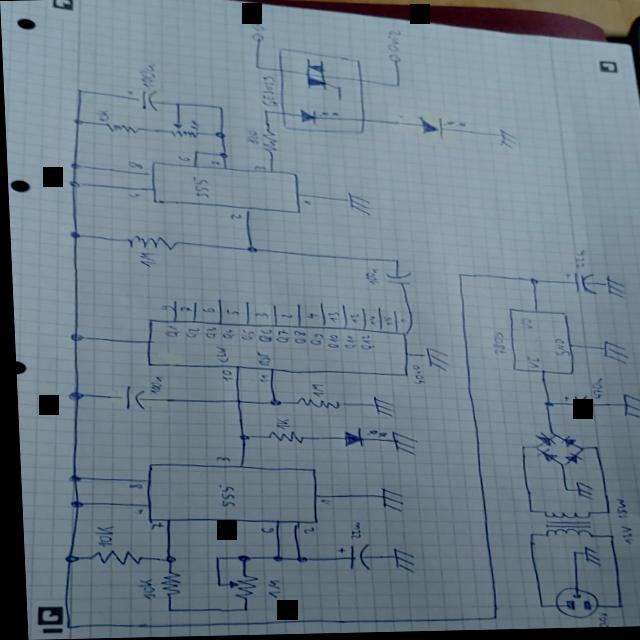capacitor: (330, 543, 367, 573), (560, 273, 596, 299), (125, 88, 158, 113), (115, 385, 143, 411), (558, 397, 589, 418), (380, 271, 411, 288)
crossover: (230, 399, 238, 405)
diode: (414, 116, 465, 143), (337, 427, 384, 450), (532, 450, 555, 464), (531, 435, 551, 449), (558, 454, 578, 467), (556, 437, 573, 451)
ground: (386, 432, 415, 458), (344, 192, 370, 218), (375, 487, 400, 514), (598, 342, 625, 367), (387, 548, 410, 576), (421, 348, 446, 373), (617, 396, 640, 422), (600, 277, 623, 302), (496, 130, 517, 152), (369, 397, 391, 418), (576, 548, 596, 569), (570, 484, 589, 502)
junction: (150, 552, 172, 565), (63, 390, 83, 402), (65, 331, 82, 342), (58, 553, 74, 564), (64, 498, 79, 509), (263, 398, 279, 408), (62, 472, 76, 483), (522, 278, 536, 289), (65, 179, 82, 188), (233, 433, 249, 442), (265, 555, 279, 564), (67, 161, 81, 170), (242, 245, 256, 254), (538, 401, 550, 411), (231, 555, 245, 563), (288, 556, 302, 564), (211, 131, 225, 139), (67, 230, 79, 239), (71, 117, 83, 125), (215, 153, 226, 160), (57, 623, 68, 630), (74, 88, 84, 95), (483, 617, 493, 623), (572, 448, 582, 454), (235, 607, 244, 613), (521, 534, 530, 540), (389, 259, 398, 265), (391, 84, 400, 90), (159, 607, 168, 613), (190, 149, 199, 155), (253, 65, 261, 71), (521, 510, 529, 516), (172, 102, 180, 108), (215, 106, 223, 112), (598, 511, 606, 517), (554, 464, 562, 470), (452, 274, 461, 279), (557, 489, 564, 495), (527, 446, 534, 452), (209, 583, 217, 588), (260, 110, 268, 115), (610, 606, 618, 611), (207, 556, 215, 561), (587, 448, 595, 453), (602, 536, 610, 541), (531, 606, 539, 611), (546, 433, 552, 439), (515, 448, 521, 452), (566, 553, 572, 557)
resistor: (83, 550, 139, 567), (123, 235, 177, 252), (221, 574, 255, 601), (260, 431, 301, 446), (291, 398, 338, 411), (164, 123, 199, 139), (154, 572, 176, 597), (259, 131, 276, 155), (104, 123, 138, 135)
terminal: (249, 33, 265, 44), (386, 55, 400, 64)
text: (87, 524, 110, 548), (259, 76, 276, 108), (188, 177, 209, 200), (131, 578, 151, 602), (138, 63, 155, 90), (487, 332, 504, 358), (213, 485, 231, 509), (247, 10, 265, 33), (384, 31, 401, 54), (258, 580, 276, 600), (609, 499, 624, 522), (613, 527, 630, 547), (586, 378, 600, 402), (143, 376, 160, 395), (569, 251, 583, 273), (209, 346, 226, 364), (134, 252, 152, 269), (355, 335, 372, 352), (361, 270, 377, 288), (549, 339, 563, 359), (408, 366, 421, 387), (250, 352, 267, 368), (342, 523, 357, 541), (271, 330, 288, 345), (268, 418, 287, 431), (289, 330, 304, 346), (304, 333, 321, 347), (253, 330, 270, 344), (159, 325, 177, 338), (244, 130, 258, 146), (323, 334, 337, 350), (589, 614, 603, 630), (513, 319, 530, 332), (339, 336, 353, 351), (307, 384, 321, 399), (181, 327, 197, 340), (222, 306, 238, 318), (157, 302, 173, 314), (236, 330, 252, 342), (522, 358, 536, 371), (95, 109, 109, 122), (324, 312, 338, 325), (125, 161, 143, 171), (209, 455, 227, 465), (200, 327, 213, 340), (217, 329, 232, 340), (345, 314, 358, 326), (122, 482, 139, 491), (250, 312, 266, 321), (144, 522, 160, 531), (249, 165, 266, 173), (196, 306, 213, 314), (217, 370, 228, 382), (379, 317, 391, 328), (188, 120, 200, 131), (253, 375, 266, 385), (174, 155, 190, 163), (126, 508, 142, 516), (254, 527, 270, 535), (296, 527, 310, 536), (302, 313, 316, 321), (226, 213, 240, 221), (364, 316, 374, 327), (207, 160, 221, 167), (315, 499, 327, 507), (277, 313, 290, 320), (124, 193, 139, 199), (300, 200, 312, 207), (176, 307, 189, 313), (395, 319, 405, 326)
transformer: (535, 512, 587, 542)
